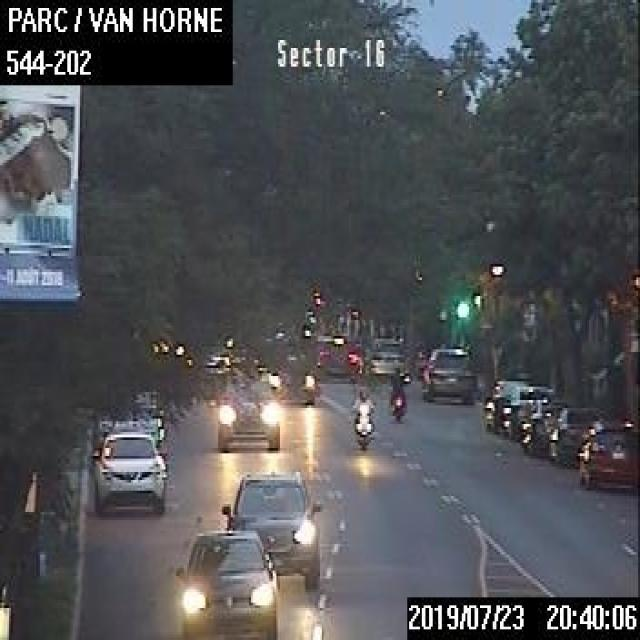vehicle: (220, 468, 320, 588), (174, 527, 278, 637), (87, 427, 168, 512), (214, 372, 281, 451), (93, 384, 167, 448), (576, 416, 638, 491), (547, 404, 609, 464), (520, 396, 578, 456), (420, 346, 477, 402), (501, 383, 555, 437), (482, 378, 532, 430), (266, 358, 314, 404), (312, 334, 358, 381), (350, 387, 377, 450), (367, 336, 404, 375), (386, 365, 410, 420)
